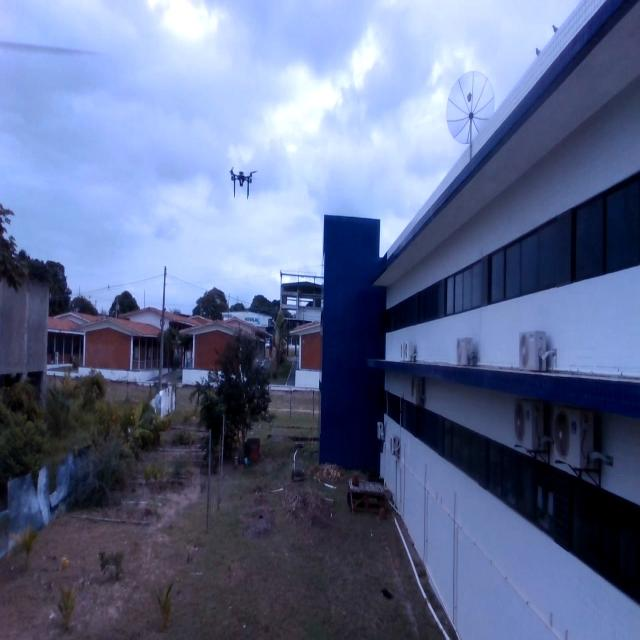-uav-: (224, 157, 260, 203)
